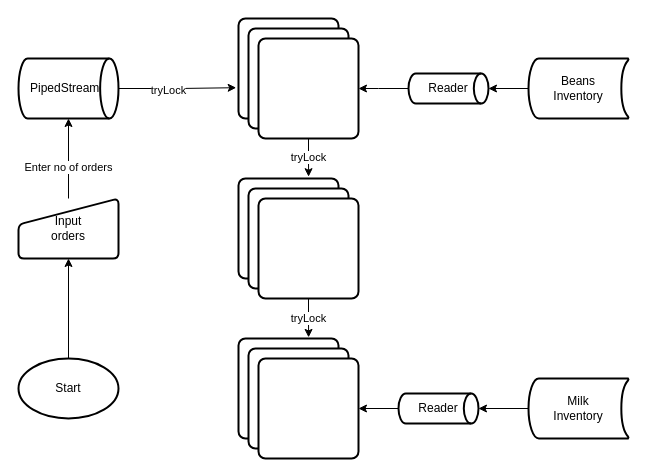
Image size: 646x476. Some labels were removed from this diagram. The shapes that lost their labels are listed below. From the top down, each one's centre as x and y in pixels, then its label:
At (308,88): "Grinding Machines".
At (308,248): "Espresso Machines".
At (308,408): "Steaming Machines".
